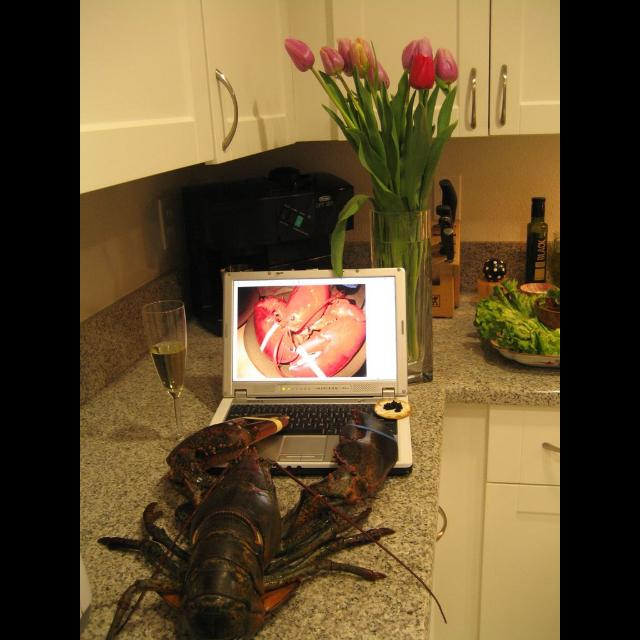Flower: (401, 35, 431, 71), (284, 36, 312, 72), (408, 51, 434, 87), (433, 49, 459, 85), (350, 34, 370, 76), (364, 56, 386, 94), (318, 46, 342, 76), (338, 40, 350, 76)
